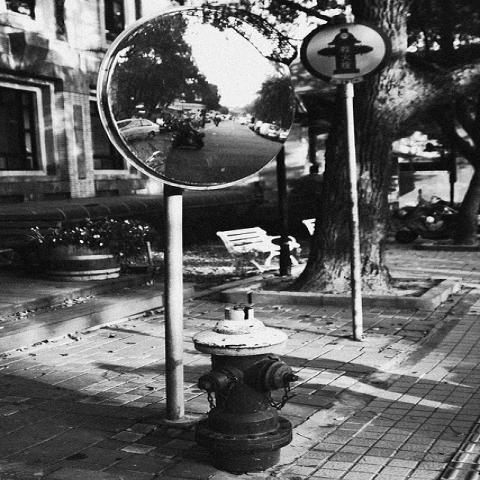car: (115, 119, 162, 142), (258, 122, 286, 140)
motorcycle: (391, 187, 460, 244)
